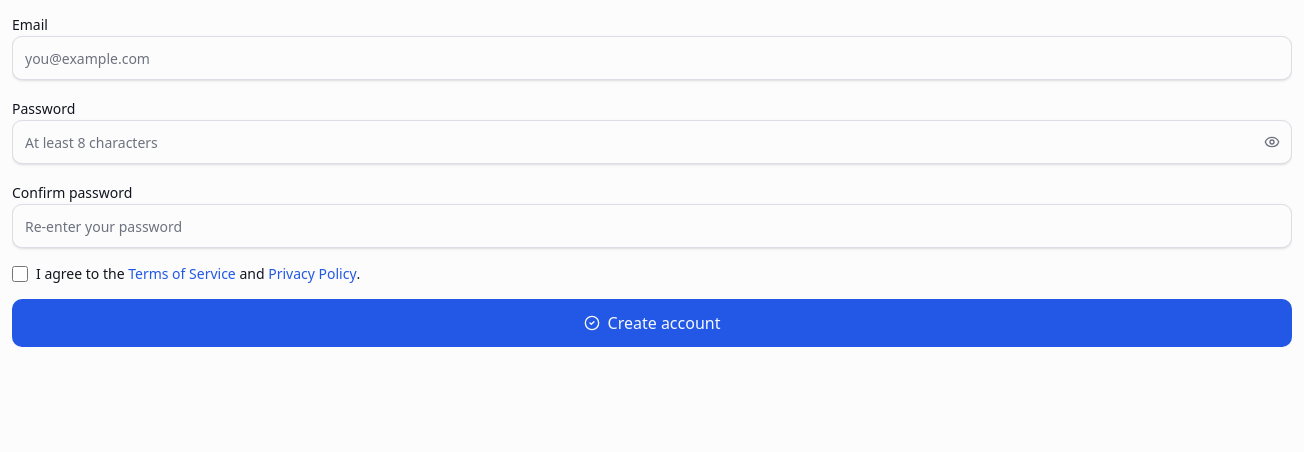
Test: SignupForm › surfaces a duplicate-email error from the adapter
Type "dupe@example.com" into the field labelled "Email". click: (652, 58)
box: [12,36,1292,80]
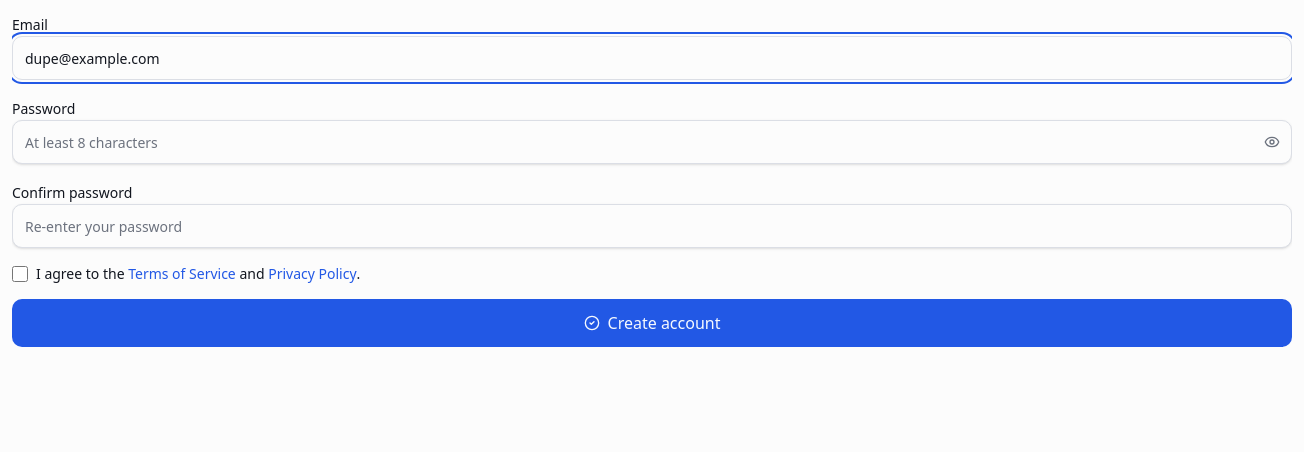
Type "Str0ngPass" into the password field labelled "Password". click: (652, 142)
box: [12,120,1292,164]
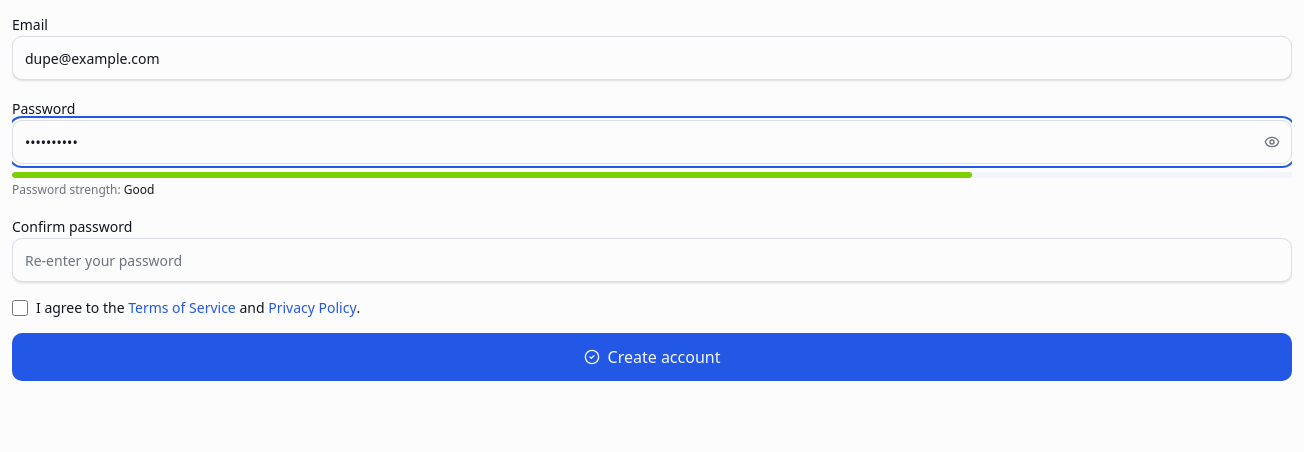
Type "Str0ngPass" into the password field labelled "Confirm password". click: (652, 260)
box: [12,238,1292,282]
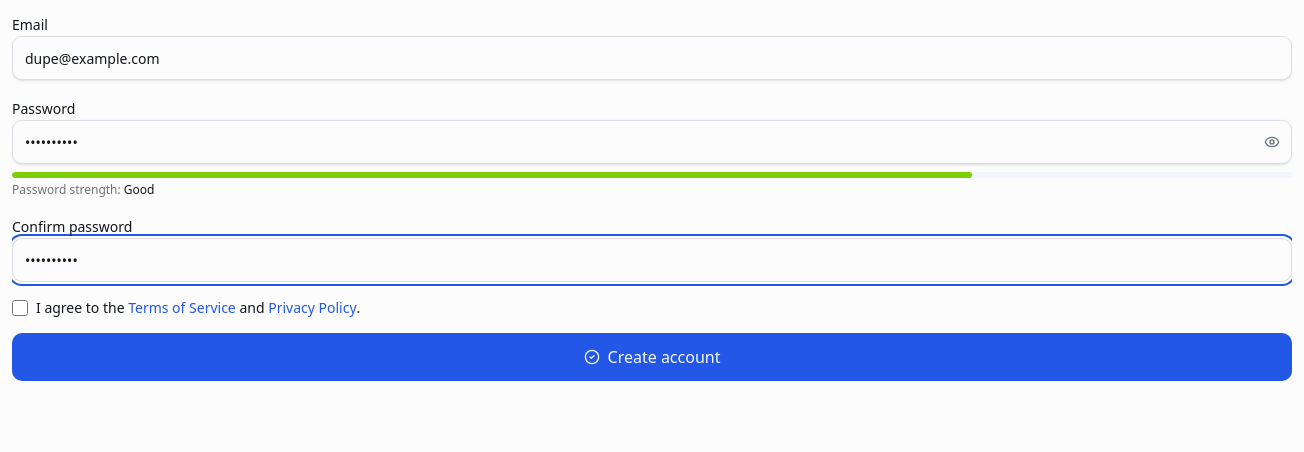
Click the checkbox labelled "I agree to the Terms of Service and Privacy Policy .". click: (20, 308)
box: [12,300,28,316]
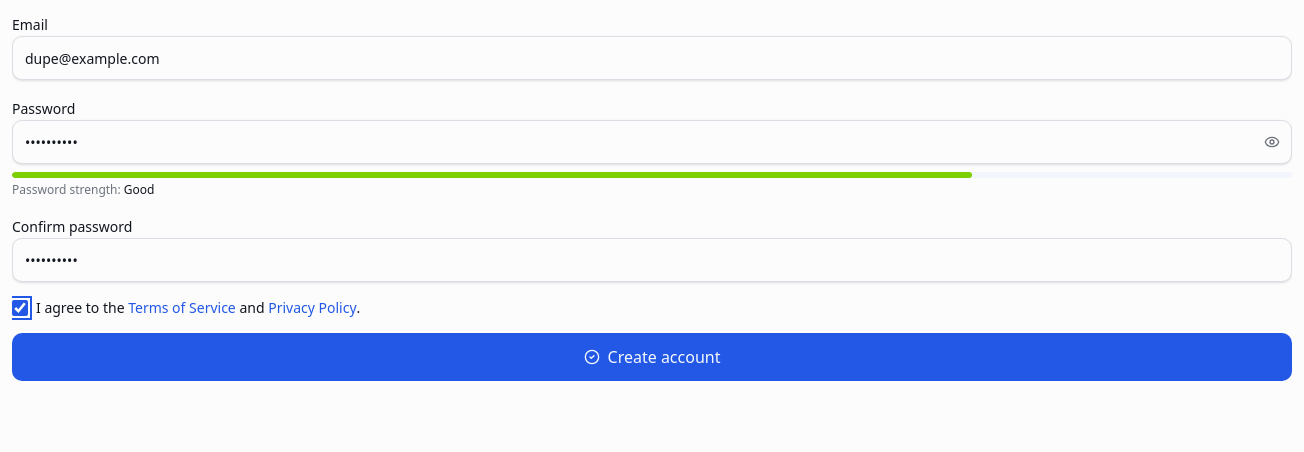
Click the button "Create account". click: (652, 357)
box: [12,333,1292,381]
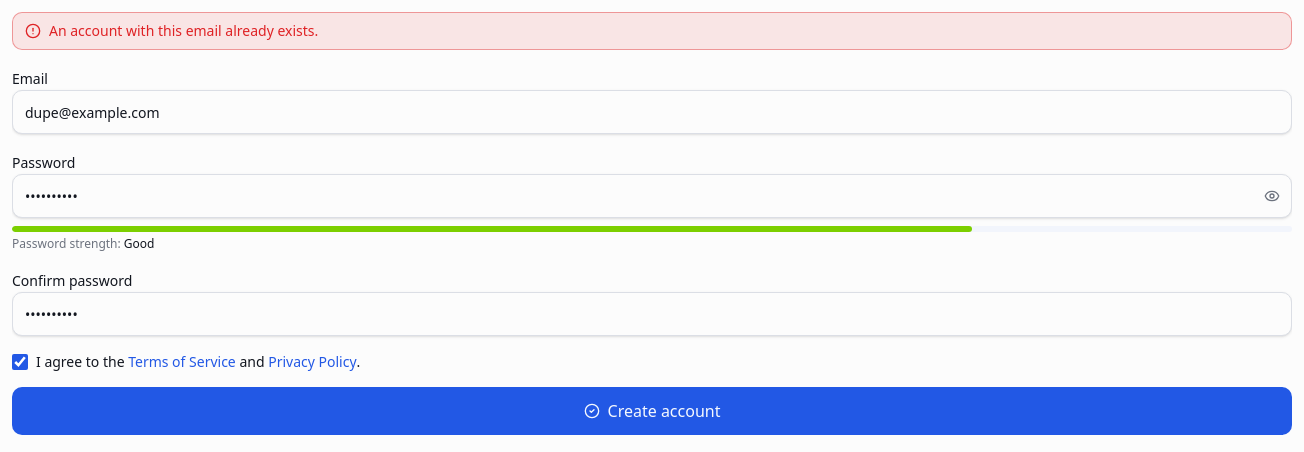
Expected: the text "An account with this email already exists." is shown, [49,21,318,41]
